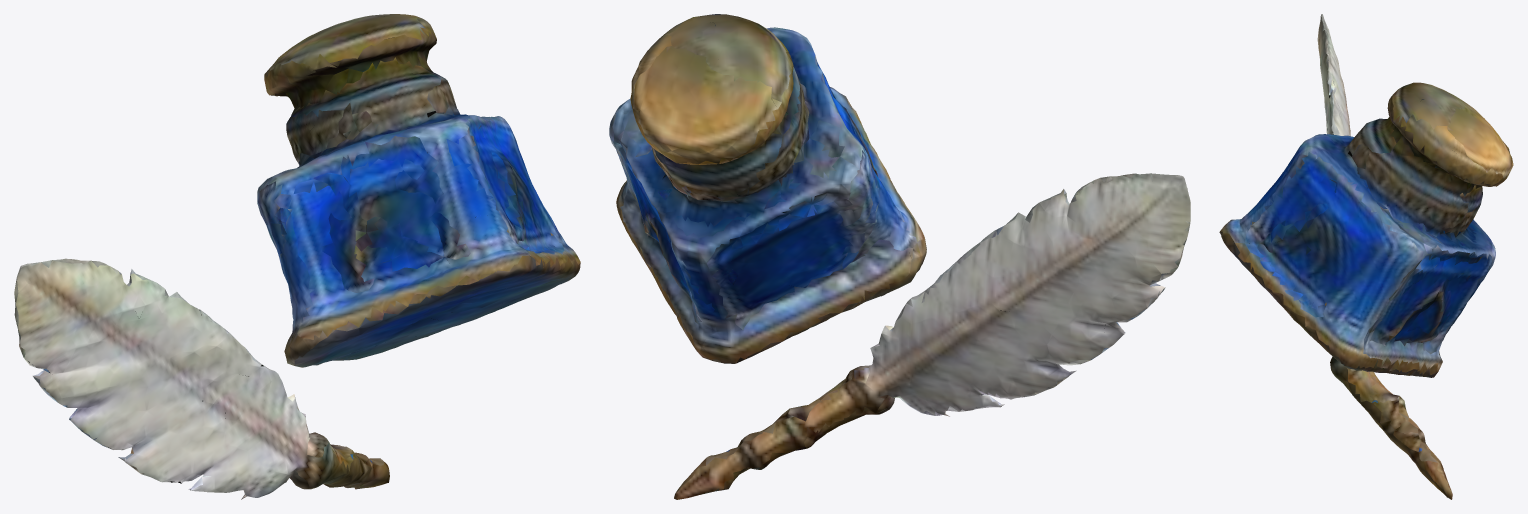
File: dress-inkwell.glb
3 renders of one model, left to right at view 1: azimuth 30°, elevation 25°; view 2: azimuth 150°, elevation 25°; view 3: azimuth 270°, elevation 25°, orthographic. The views are drawn at different scales.
Parts seen in each view (by area): view 1: world; view 2: world; view 3: world.
Boxes of the visible parts, bbox=[...] form: world: bbox=[14, 14, 580, 499]; world: bbox=[609, 14, 1190, 499]; world: bbox=[1219, 14, 1513, 499].
Bounding box in the file's own units: 1.08 × 0.8719 × 0.5917.
Materials: 1 (1 with a texture image).
